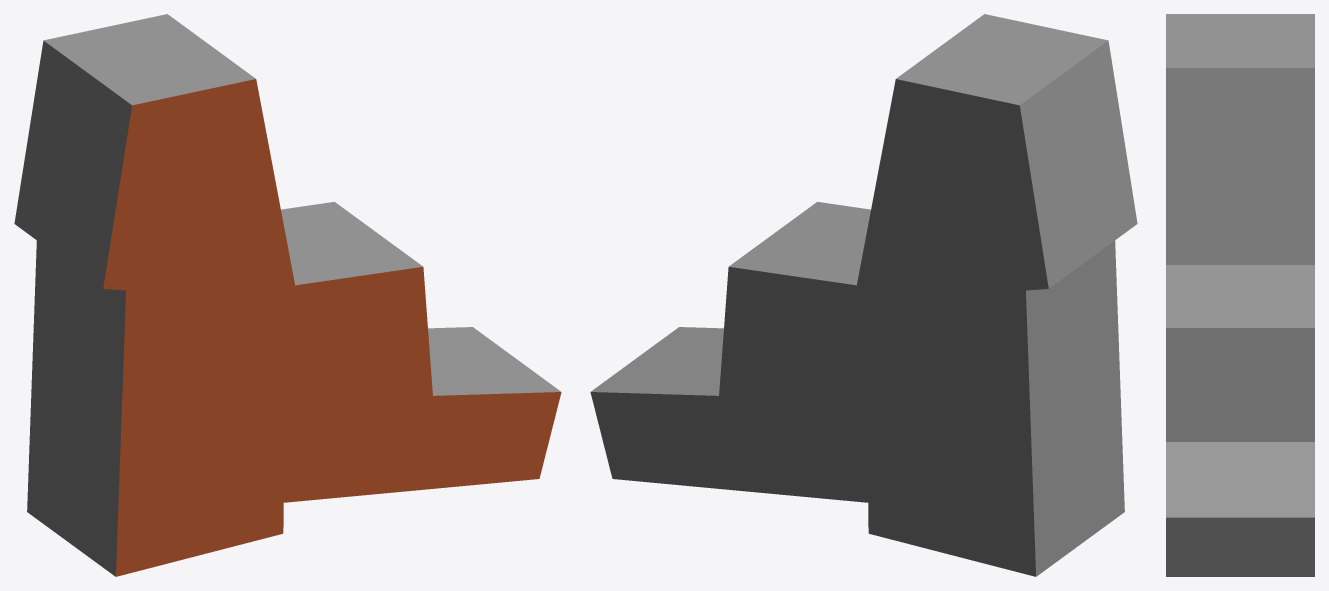
The model's file is construction_2423_assumed_A_Casa_h6m.obj.
3 renders of one model, left to right at view 1: azimuth 30°, elevation 25°; view 2: azimuth 150°, elevation 25°; view 3: azimuth 270°, elevation 25°, orthographic. The views are drawn at different scales.
Visible parts, largest first — view 1: construction_2423_assumed_A_Casa; view 2: construction_2423_assumed_A_Casa; view 3: construction_2423_assumed_A_Casa.
Part boxes in pixels (x1,y1,x2,y2): construction_2423_assumed_A_Casa: [14, 14, 561, 576]; construction_2423_assumed_A_Casa: [590, 14, 1137, 576]; construction_2423_assumed_A_Casa: [1166, 14, 1314, 576].
Size of the model in its own units: 17.89 by 17.64 by 6.
